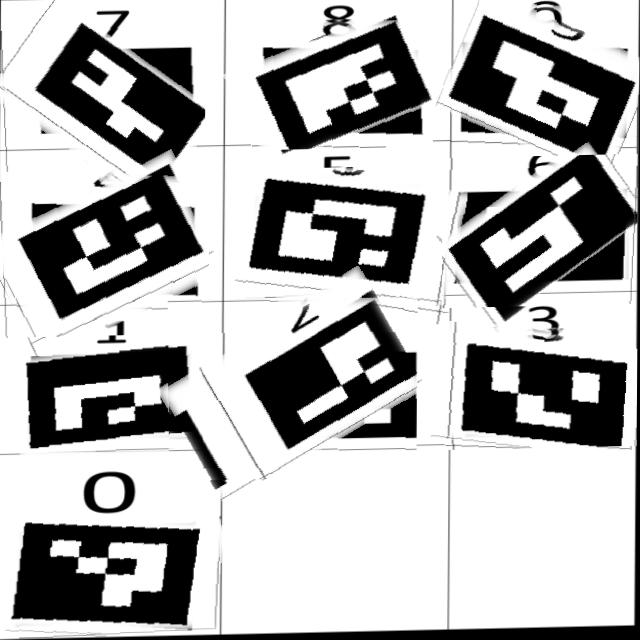aruco: (167, 296, 418, 482), (0, 168, 210, 338), (238, 167, 466, 322), (0, 17, 206, 187), (443, 0, 640, 161), (442, 157, 639, 310), (229, 15, 434, 152), (8, 512, 223, 640), (433, 323, 638, 452), (18, 345, 201, 458)
